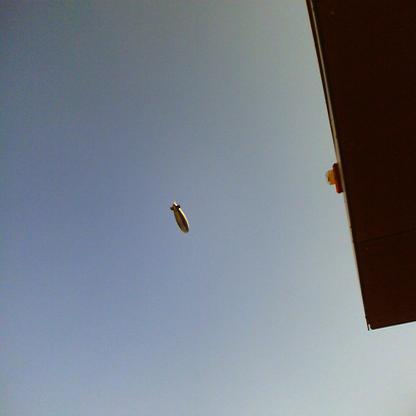Airship: (163, 199, 200, 236)
